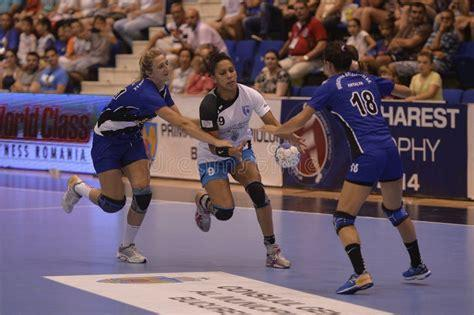ballon_handball: (274, 142, 302, 169)
